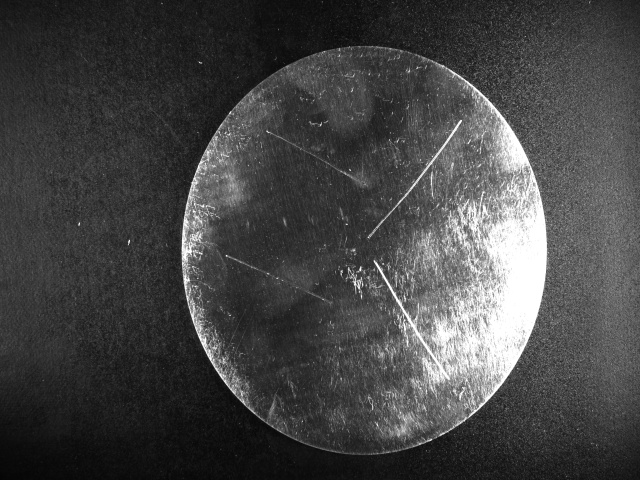ca_shang: (362, 116, 463, 242), (370, 254, 453, 383), (258, 124, 374, 192), (221, 249, 335, 304)
